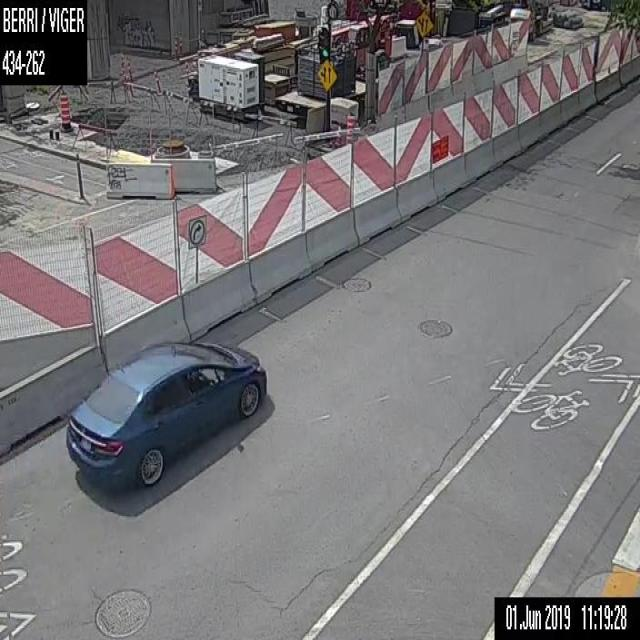construction: (57, 91, 72, 131), (344, 111, 356, 146)
vehicle: (63, 337, 267, 488)
